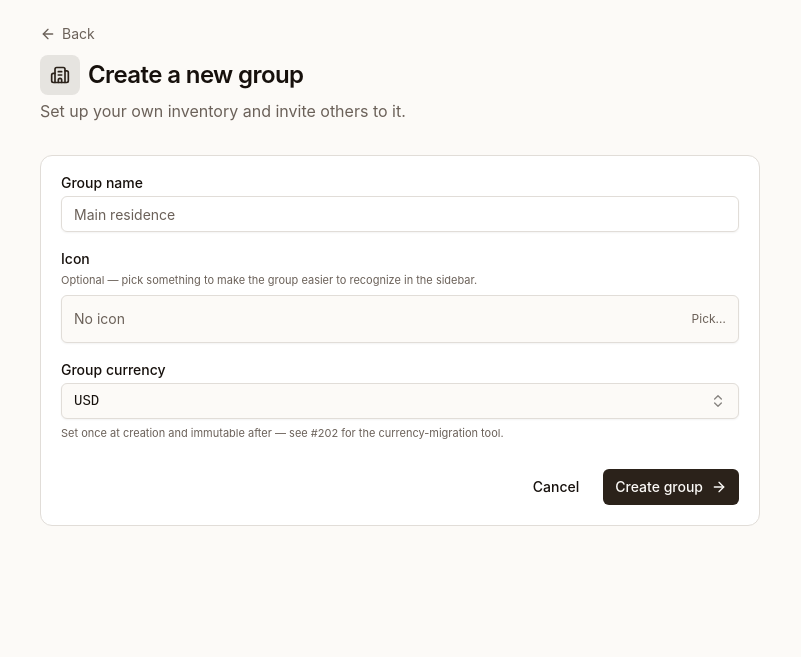
Scenario: <CreateGroupPage /> › treats a slug-less success response as an error and keeps the form mounted (#1886)
Type "Household" into the field with test id "group-name-input" at x=400, y=214, box [61,196,739,232]
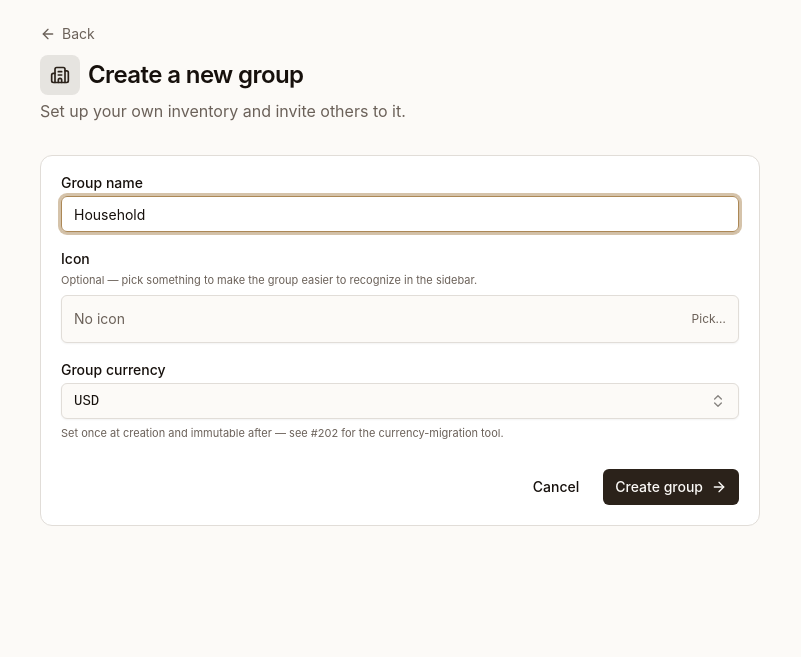
Click the button with test id "create-group-submit" at x=671, y=487, box [603,469,739,505]
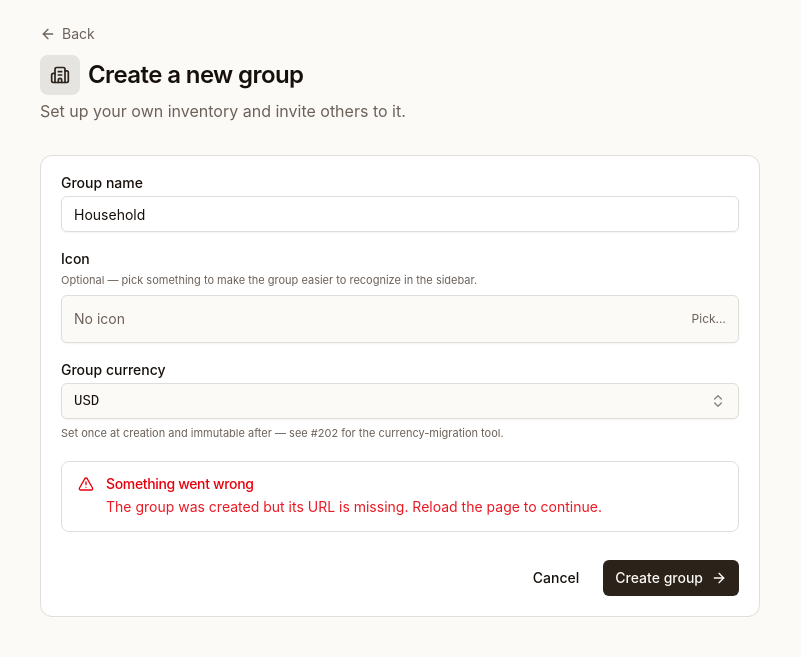
Expected: the message with test id "create-group-server-error" is shown, [61,461,739,532]
